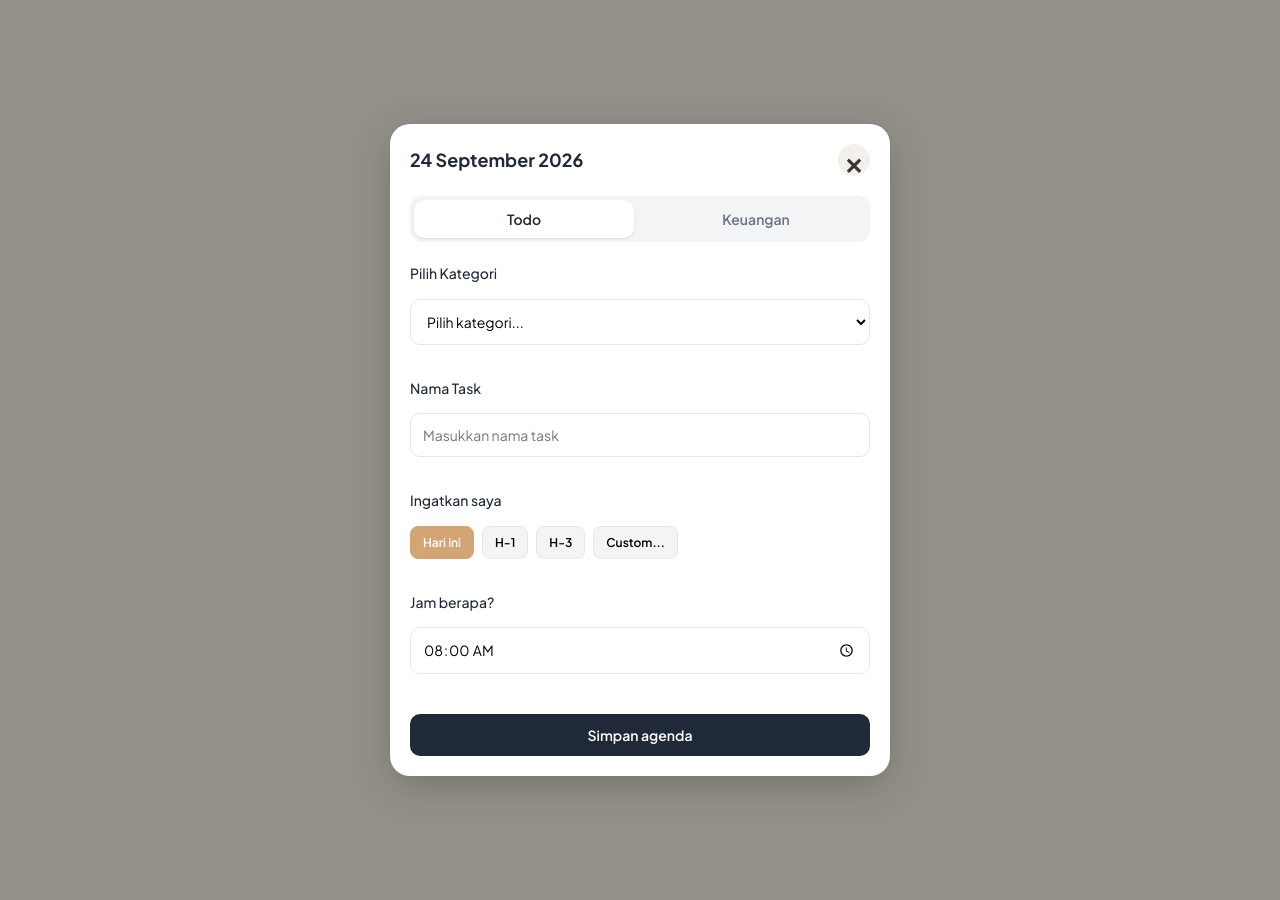
AddModal › switches to keuangan tab when clicked
Click the button "Keuangan": (756, 219) [646, 200, 866, 238]
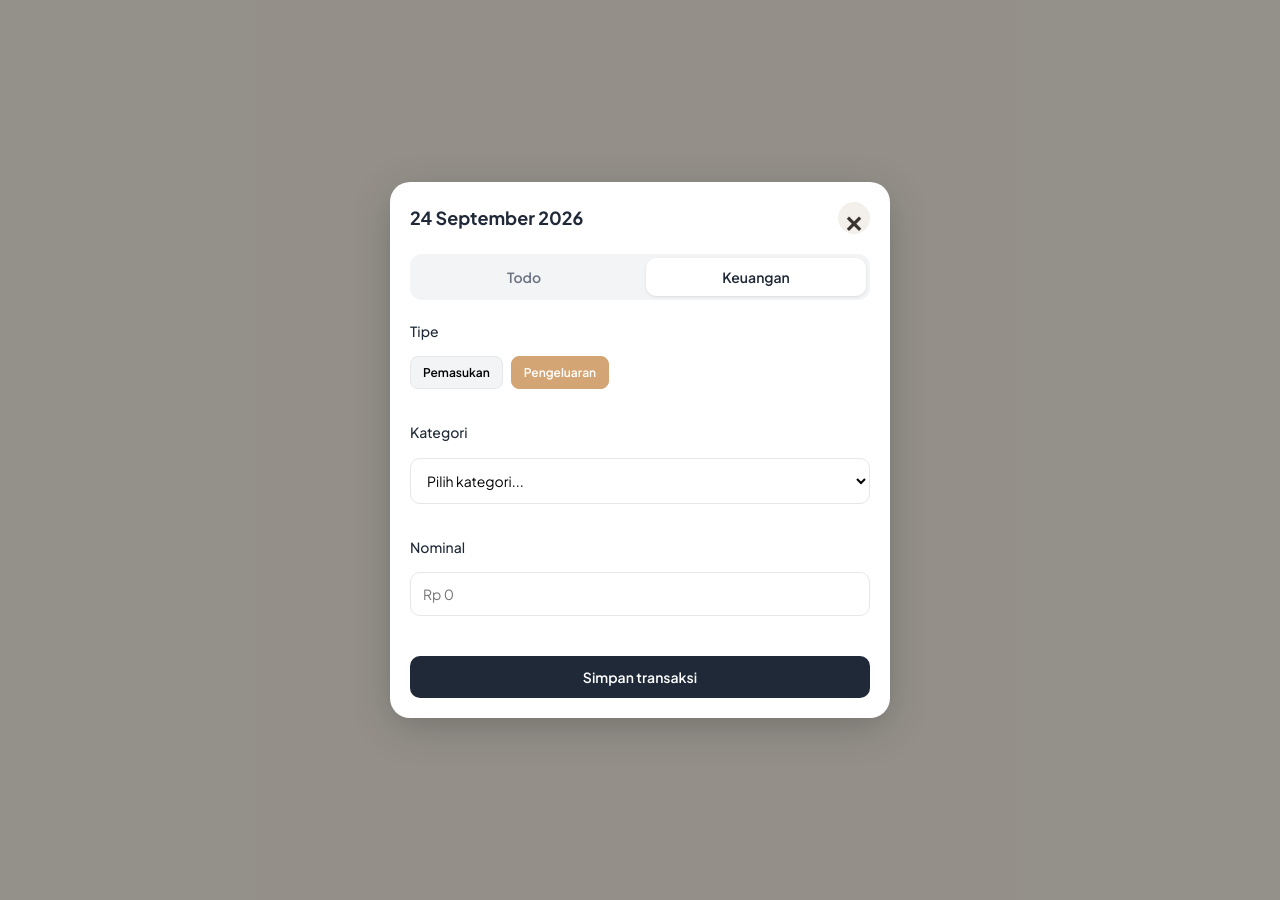
Check: the text "Tipe" is shown, box [410, 322, 439, 340]
Check: the text "Nominal" is shown, box [410, 538, 465, 556]
